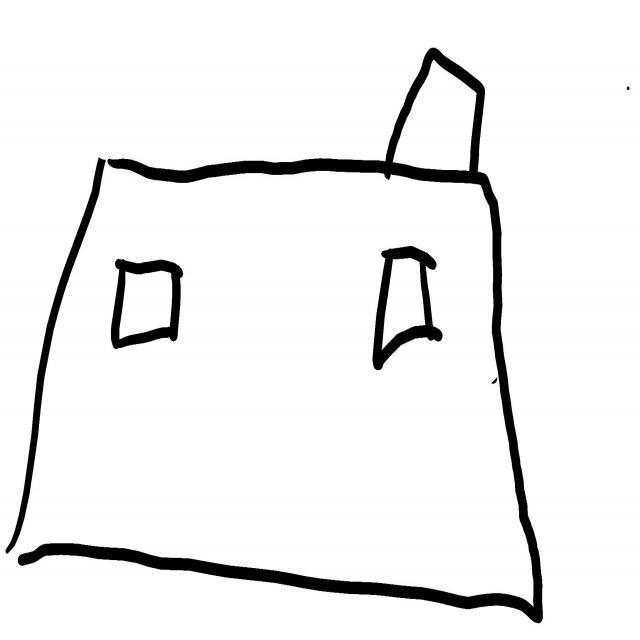chimney: (375, 32, 495, 180)
house: (9, 48, 544, 623)
wall: (0, 155, 556, 635)
window: (366, 230, 444, 357), (108, 255, 185, 349)
